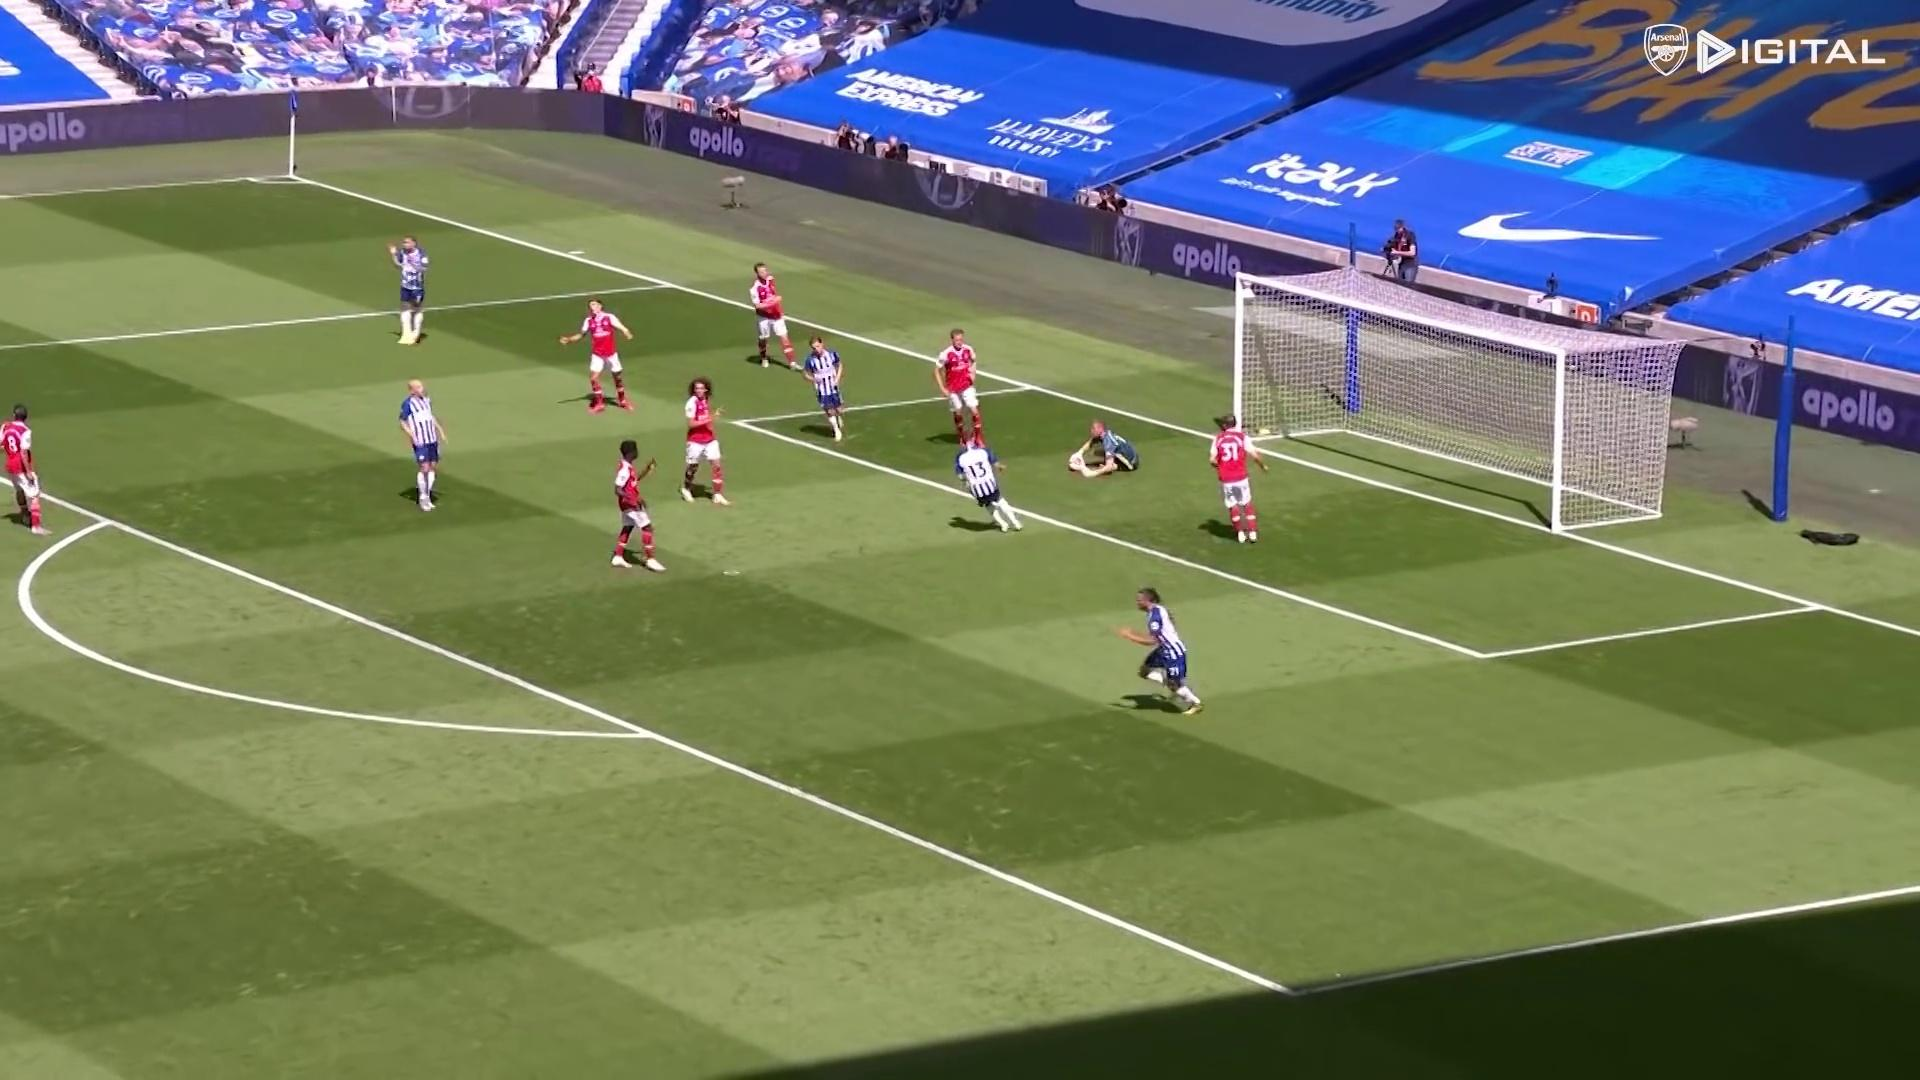ball: (1069, 453, 1086, 473)
goalkeeper: (1069, 419, 1144, 480)
player: (1114, 587, 1203, 720), (558, 298, 638, 415), (936, 330, 1005, 454), (1208, 410, 1268, 547), (674, 377, 734, 506), (611, 438, 666, 574), (958, 428, 1023, 539), (1, 401, 54, 537), (400, 378, 449, 514), (746, 261, 806, 372), (386, 233, 432, 348), (803, 335, 847, 443)
